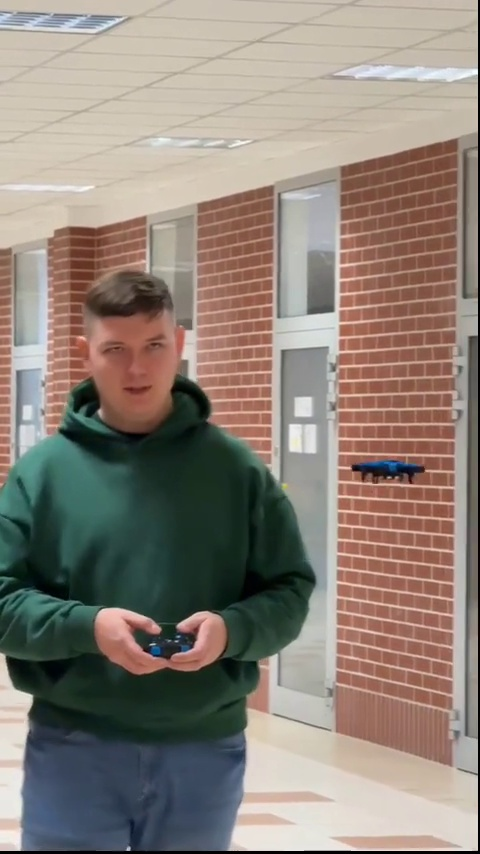drone: (352, 455, 427, 487)
no vest: (7, 269, 313, 830)
